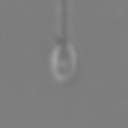abnormal: (52, 1, 75, 45)
